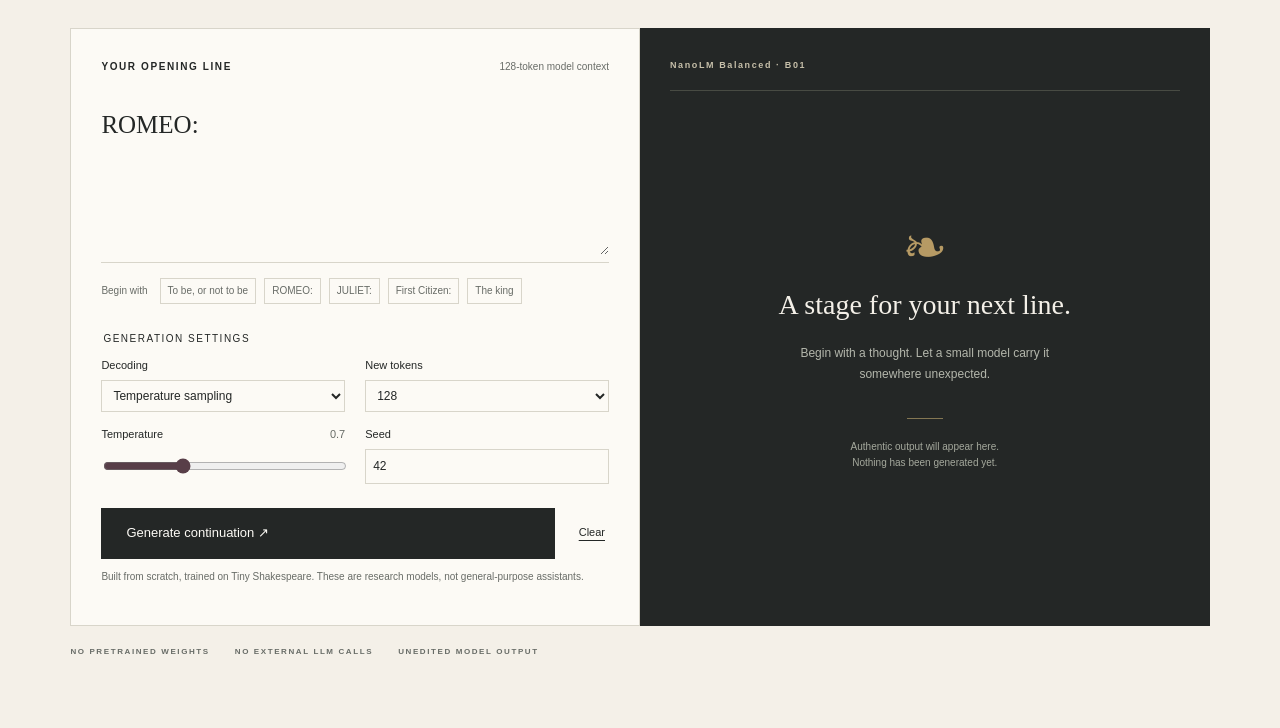
shows errors and clear/reset works
This screenshot has width=1280, height=728.
(page scrolled)
Click the button "Generate continuation ↗".
click(198, 532)  # box [101,508,555,559]
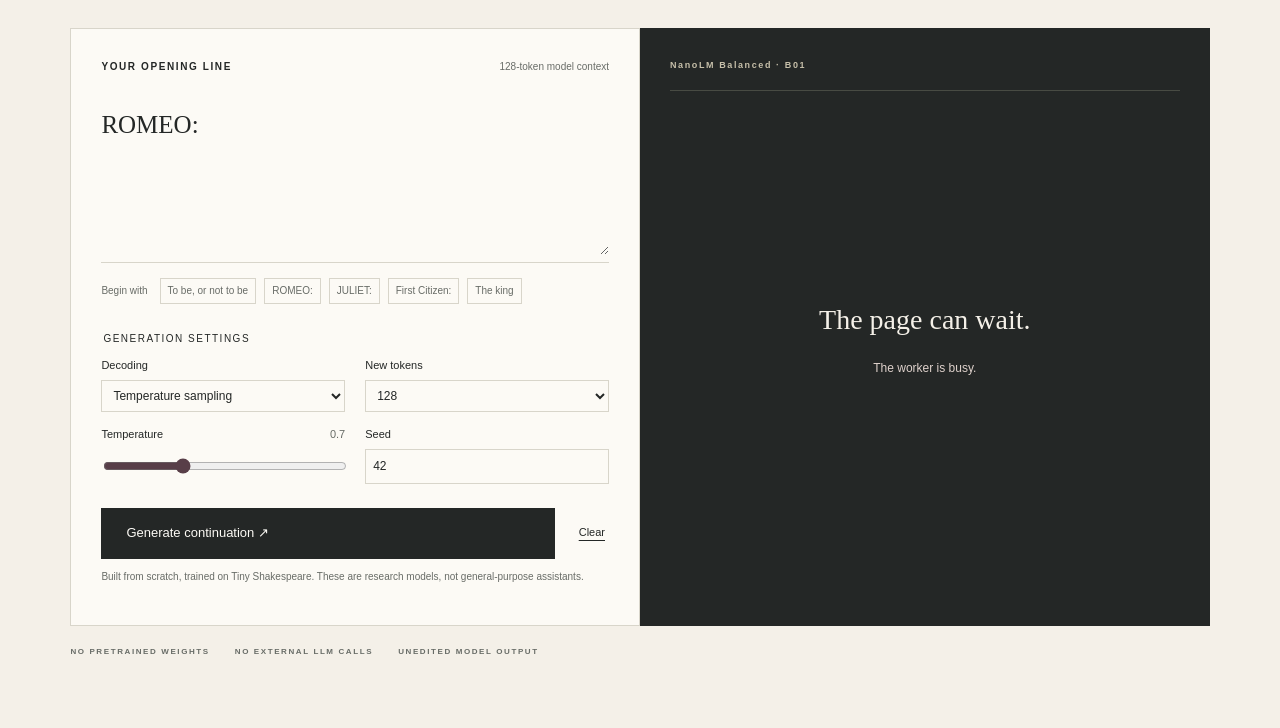
Check: the text "The worker is busy." is shown, box [873,358,976,380]
Click the button "Clear".
click(592, 533)  # box [575,520,609,546]
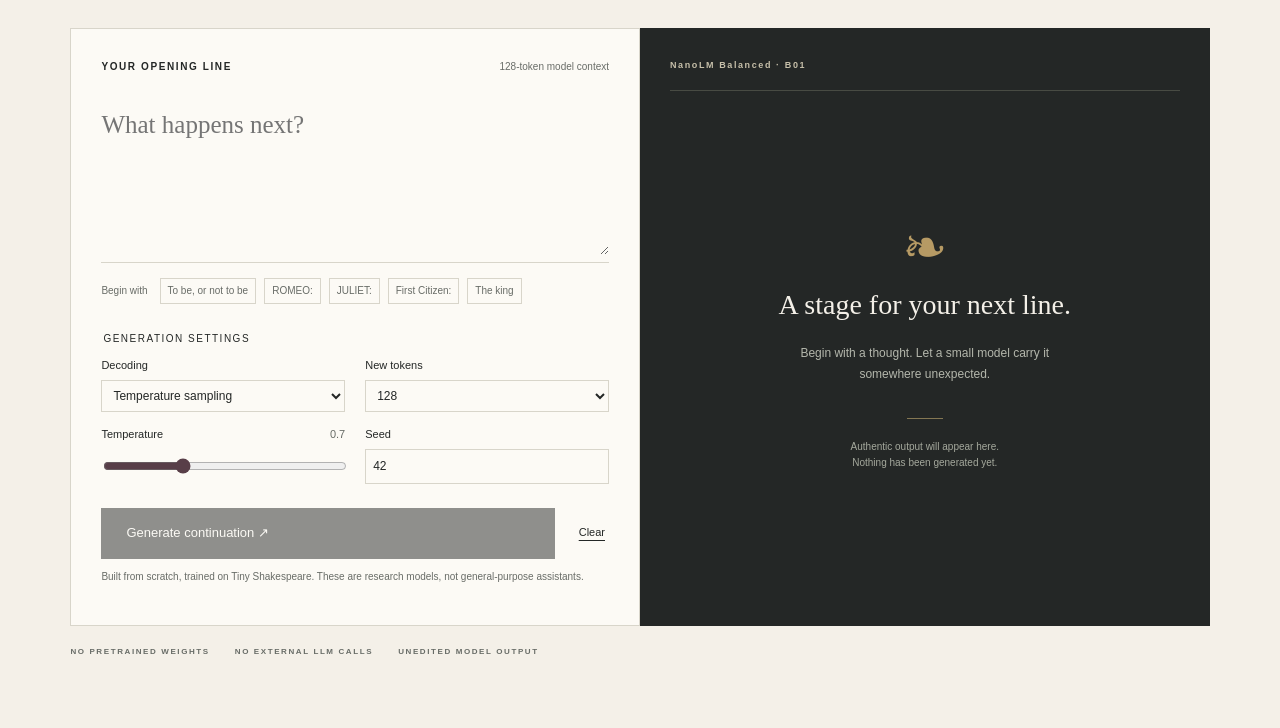
Check: the text box labelled "YOUR OPENING LINE" is empty, box [101,95,609,255]
